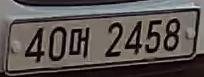0: (47, 25, 68, 63)
2: (102, 21, 124, 59)
4: (23, 26, 47, 65), (125, 20, 145, 55)
5: (143, 17, 163, 54)
8: (163, 17, 182, 52)
머: (67, 25, 92, 60)
